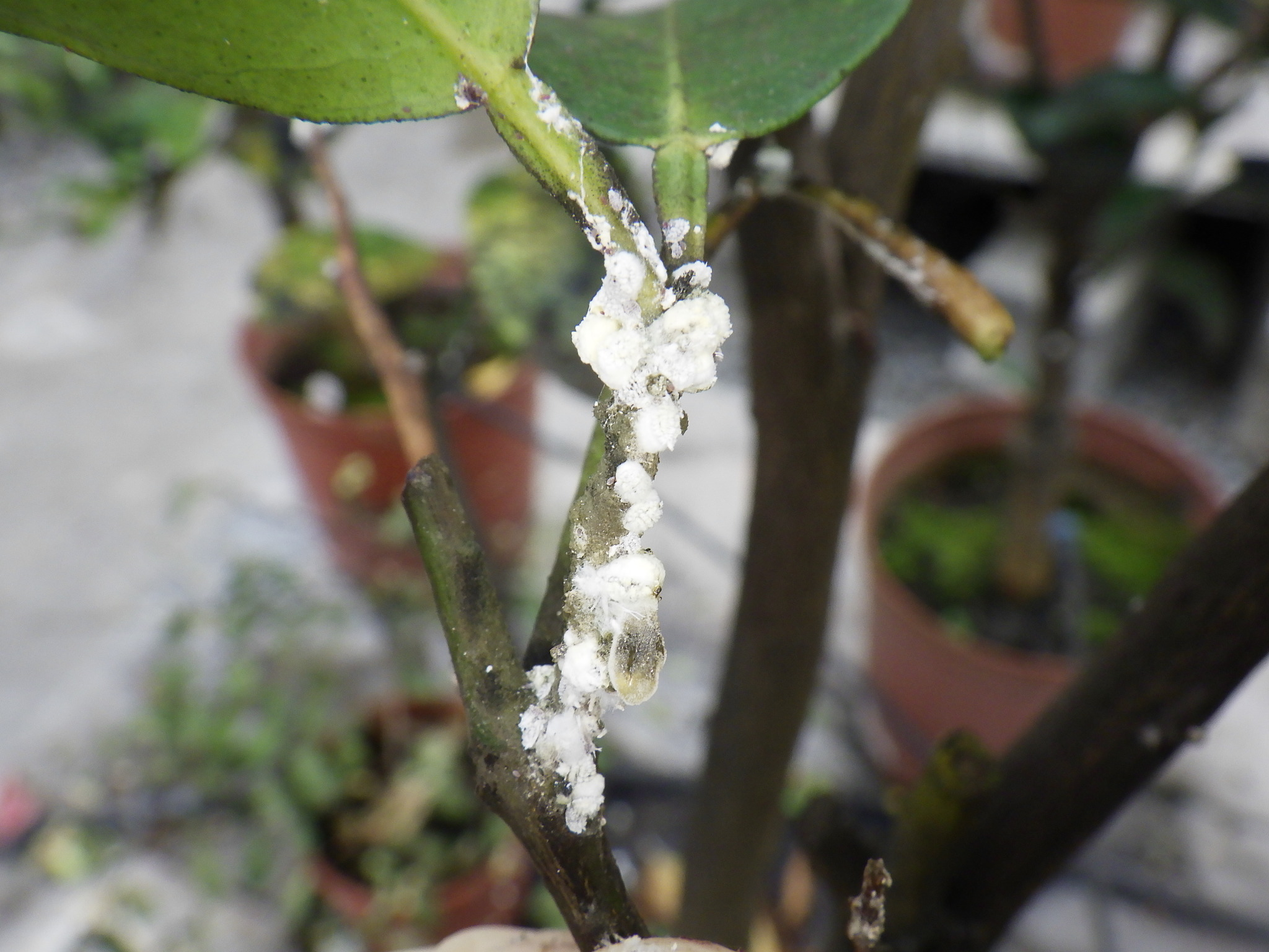Scale_Insect: (572, 252, 731, 453), (520, 705, 603, 833), (573, 552, 664, 625), (609, 620, 665, 703), (615, 461, 662, 536), (558, 636, 604, 692), (531, 666, 556, 700)
